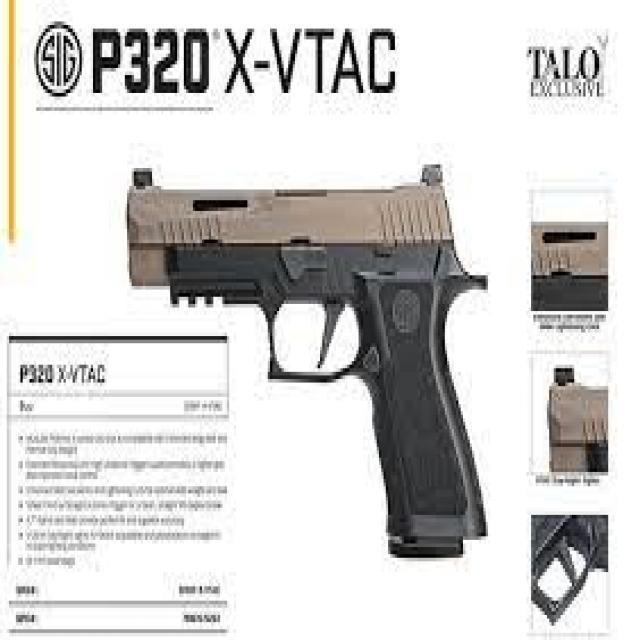semi automatic: (118, 141, 509, 578)
